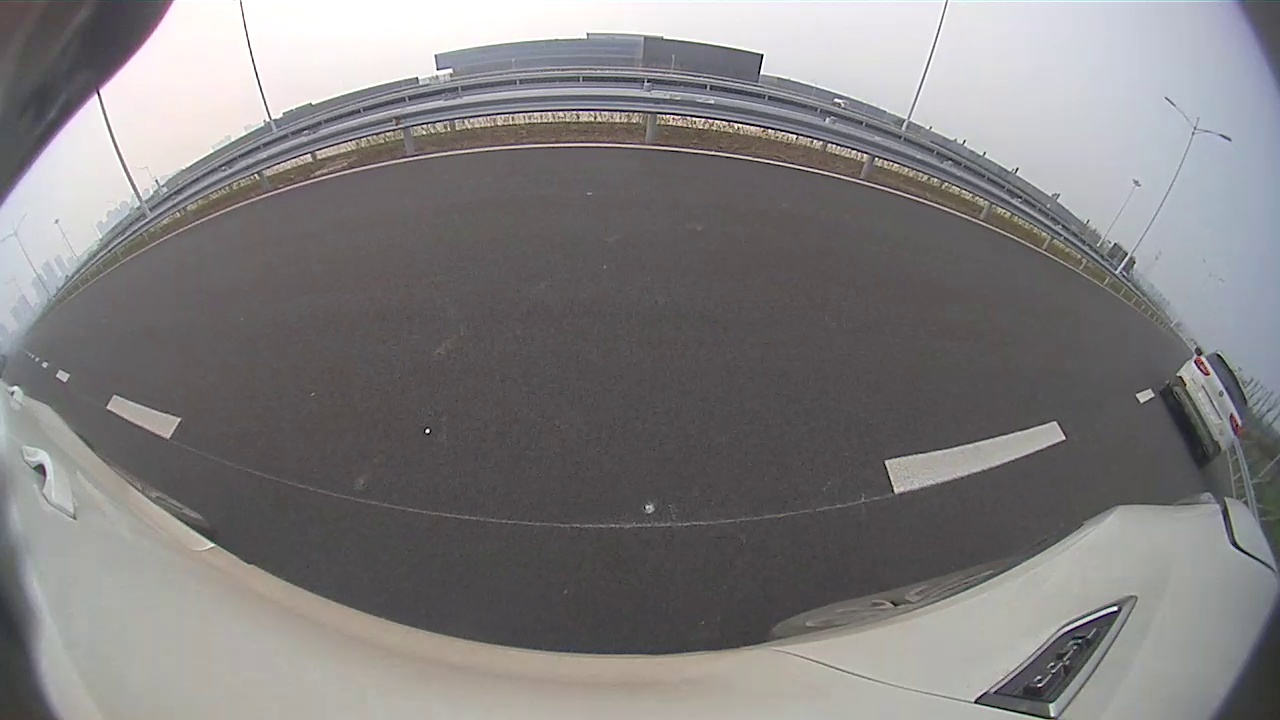car: (1160, 348, 1250, 468)
